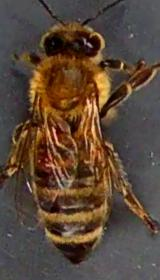varroa_mite: (34, 152, 59, 173)
